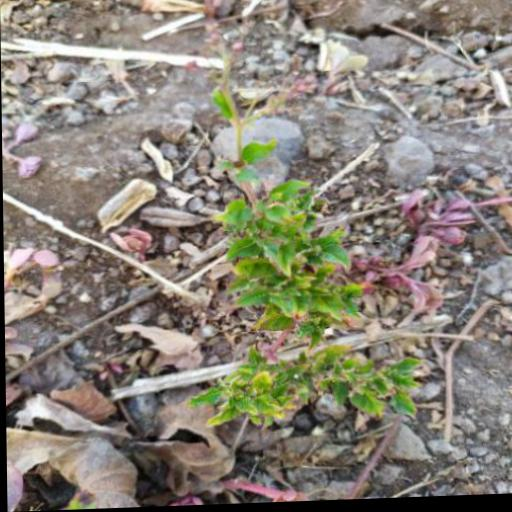weed: (192, 112, 425, 440)
